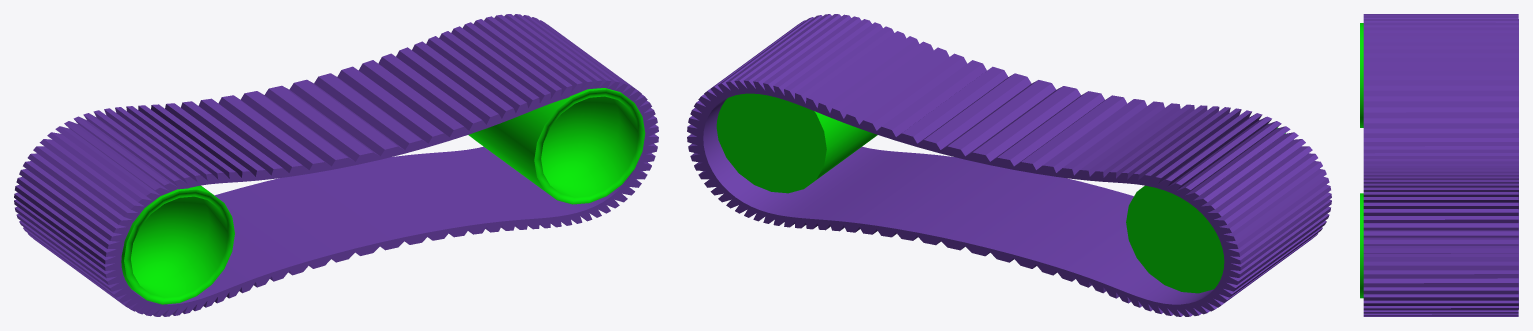
File: Copnvery Blet.fbx
3 views of the same model, side by side, from view 1: azimuth 30°, elevation 25°; view 2: azimuth 150°, elevation 25°; view 3: azimuth 270°, elevation 25° (orthographic). The views are drawn at different scales.
Parts seen in each view (by area): view 1: pPipe1, pCylinder3; view 2: pPipe1, pCylinder3; view 3: pPipe1, pCylinder3.
Boxes of the visible parts, x1,y1,x2,y2 form: pPipe1: (14,14,658,316); pCylinder3: (121,88,645,304); pPipe1: (687,14,1331,316); pCylinder3: (716,93,1285,293); pPipe1: (1363,14,1518,316); pCylinder3: (1360,23,1363,298).
Size of the model in its own units: 19.11 by 4.67 by 5.58.
